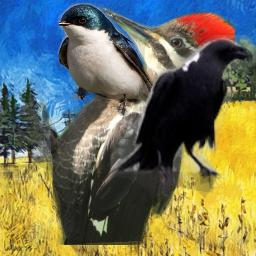Crow: (109, 35, 256, 202)
Swallow: (58, 3, 165, 116)
Woodpecker: (18, 7, 235, 245)
